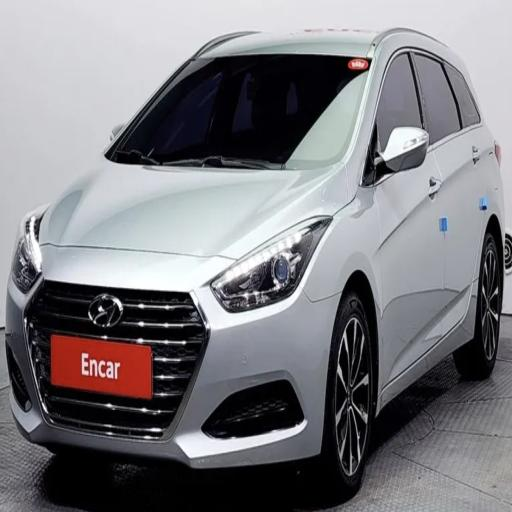normal: (14, 9, 510, 493)
